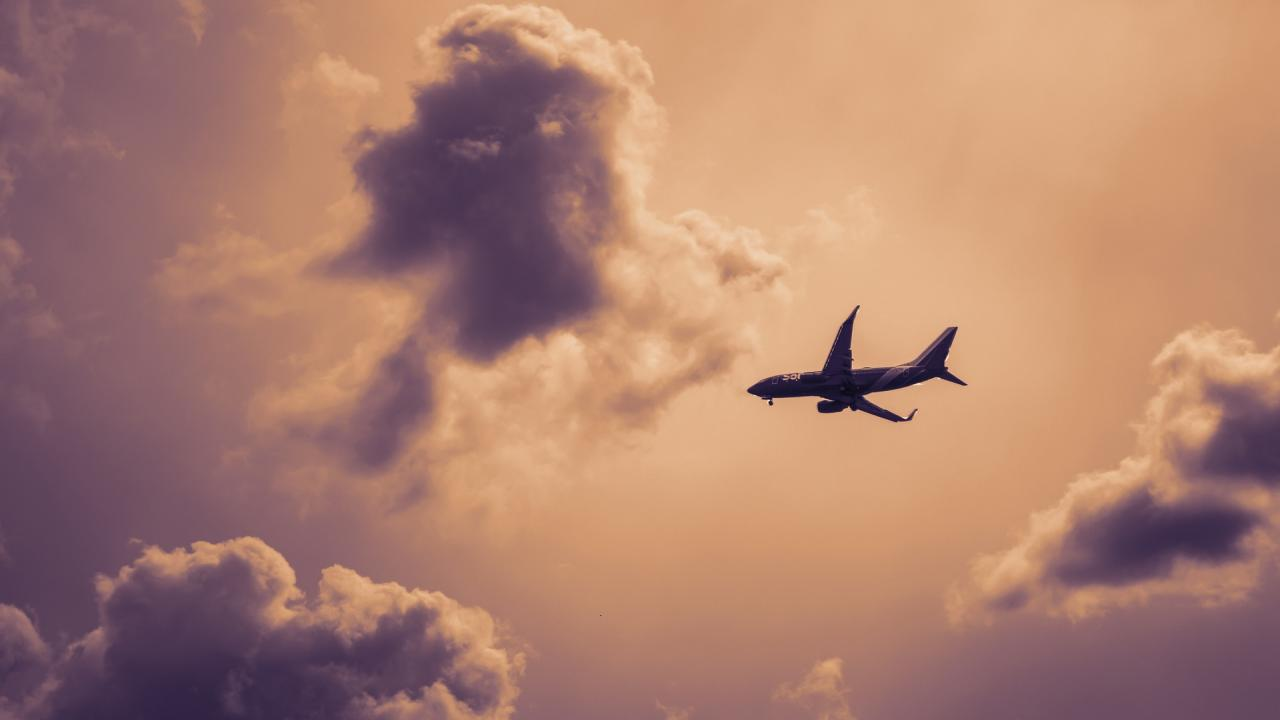Airplane: (739, 296, 978, 436)
